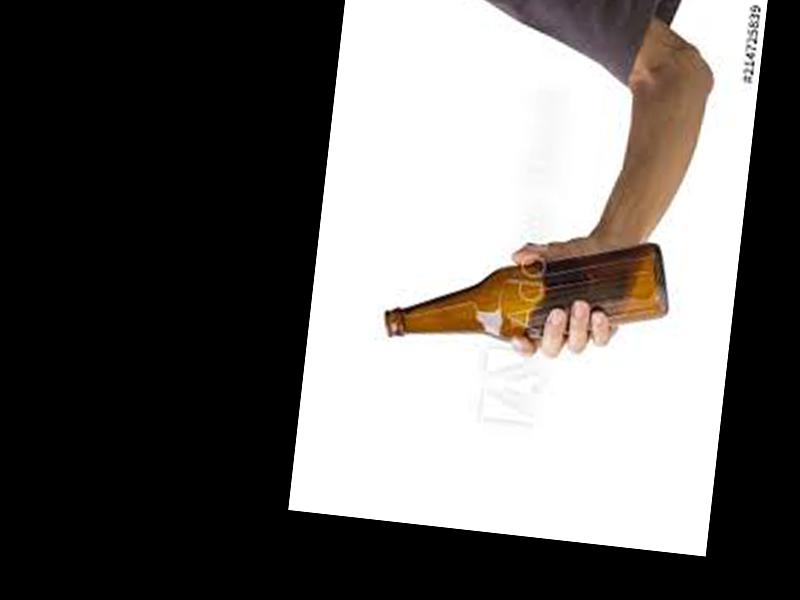Beer: (381, 214, 675, 369)
